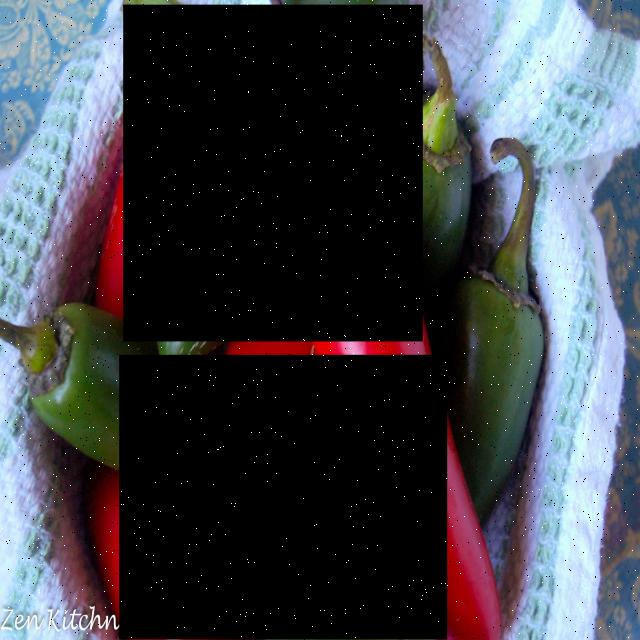Chili_Pepper: (261, 106, 520, 640), (123, 5, 423, 342), (119, 355, 447, 640)
